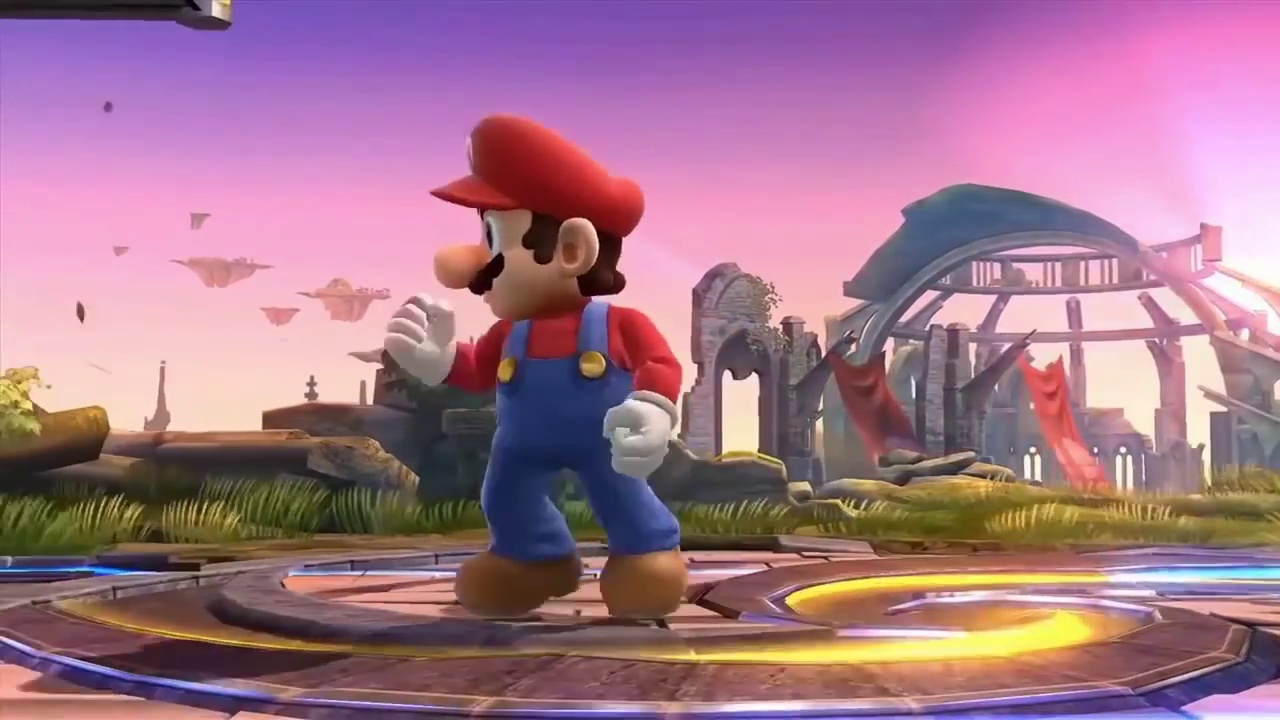Mario: (386, 114, 686, 619)
